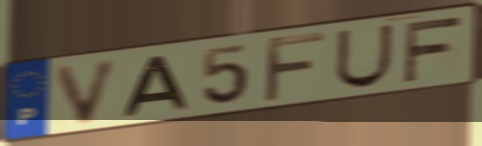5: (199, 41, 253, 108)
A: (120, 54, 193, 118)
F: (260, 30, 328, 105), (400, 13, 465, 85)
U: (332, 22, 396, 91)
V: (52, 55, 125, 127)
